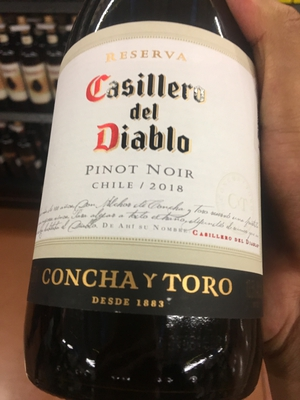casillero del diablo pinot noir: (32, 5, 272, 391)
